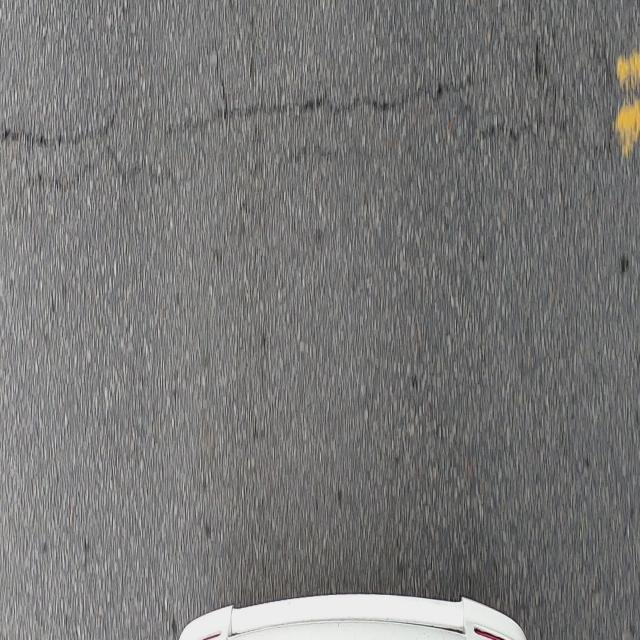Retak-Melintang: (337, 76, 475, 115), (207, 90, 337, 125), (4, 125, 109, 149)
